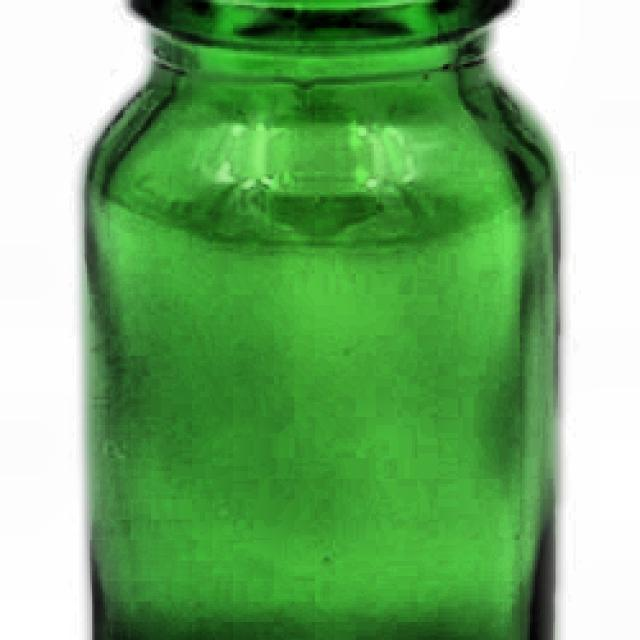glass: (81, 0, 570, 640)
